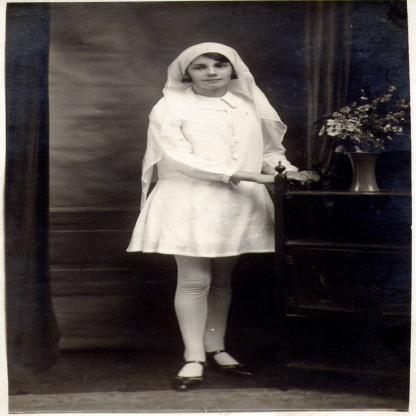vase: (346, 150, 383, 192)
